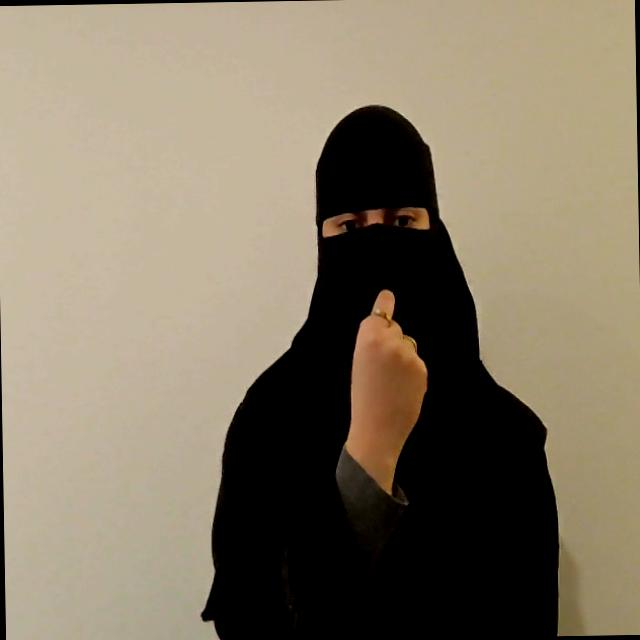medicine: (342, 286, 431, 494)
